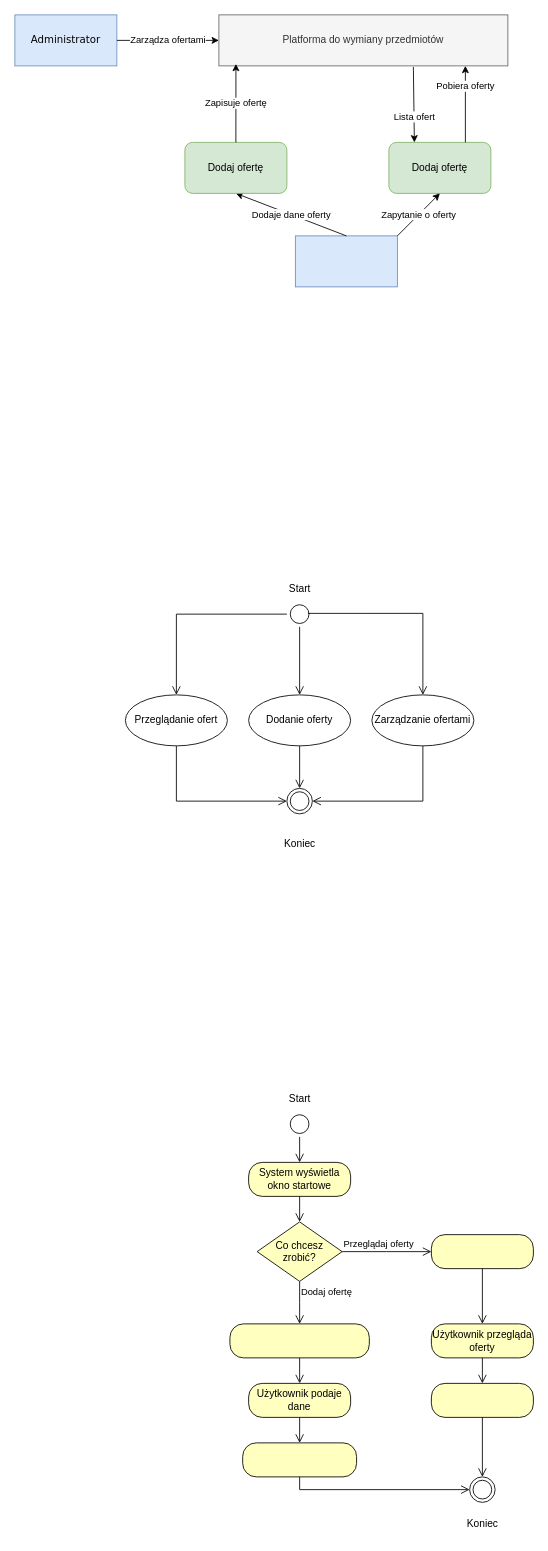
The diagram is 548 pixels wide and 1551 high, and some of its shapes have lost their labels. Here are the shapes that lost their labels. From the top down, the centre of each, then its label:
At point 346,261: "Użytkownik".
At point 482,1251: "System wyświetla listę ofert".
At point 299,1340: "System wyświetla formularz do dodania oferty".
At point 482,1400: "Użytkownik kończy przeglądanie ofert".
At point 299,1459: "System zapisuje dane w systemie".
